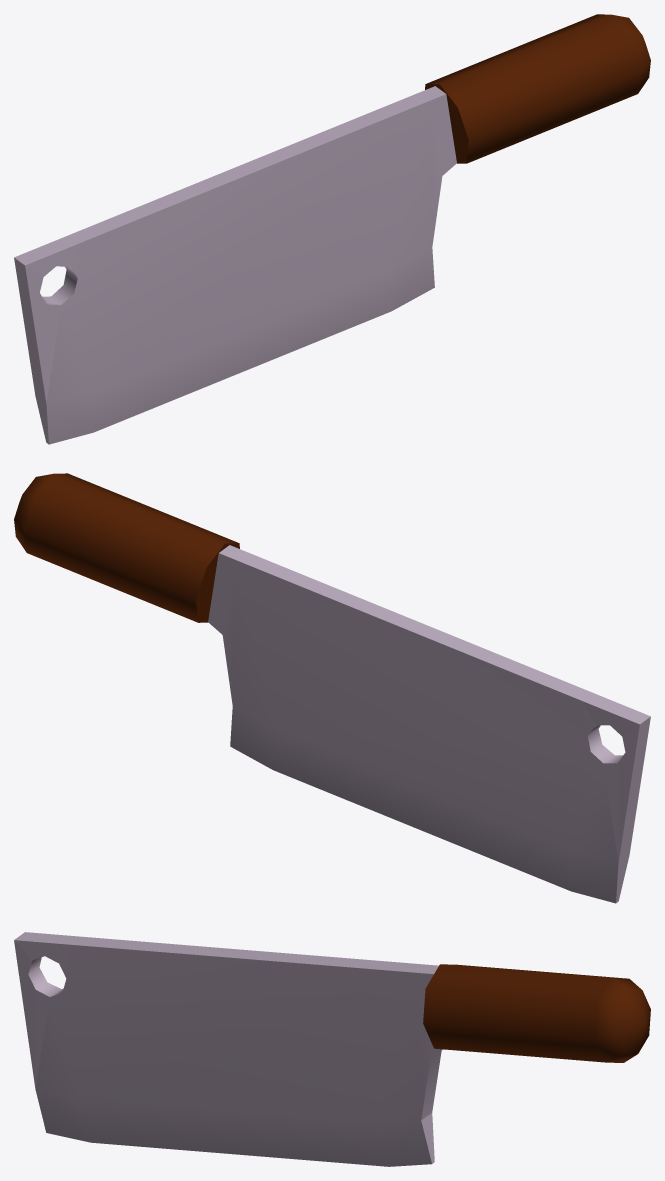
The model's file is Hat_88_01.fbx.
3 views of the same model, one above another, from view 1: azimuth 30°, elevation 25°; view 2: azimuth 150°, elevation 25°; view 3: azimuth 330°, elevation 25° (orthographic).
Visible parts, largest first — view 1: Hat_88_01; view 2: Hat_88_01; view 3: Hat_88_01.
Part boxes in pixels (bbox=[...]): Hat_88_01: bbox=[14, 14, 650, 444]; Hat_88_01: bbox=[14, 473, 650, 903]; Hat_88_01: bbox=[14, 932, 650, 1166].
Size of the model in its own units: 41.49 by 18.45 by 5.28.
